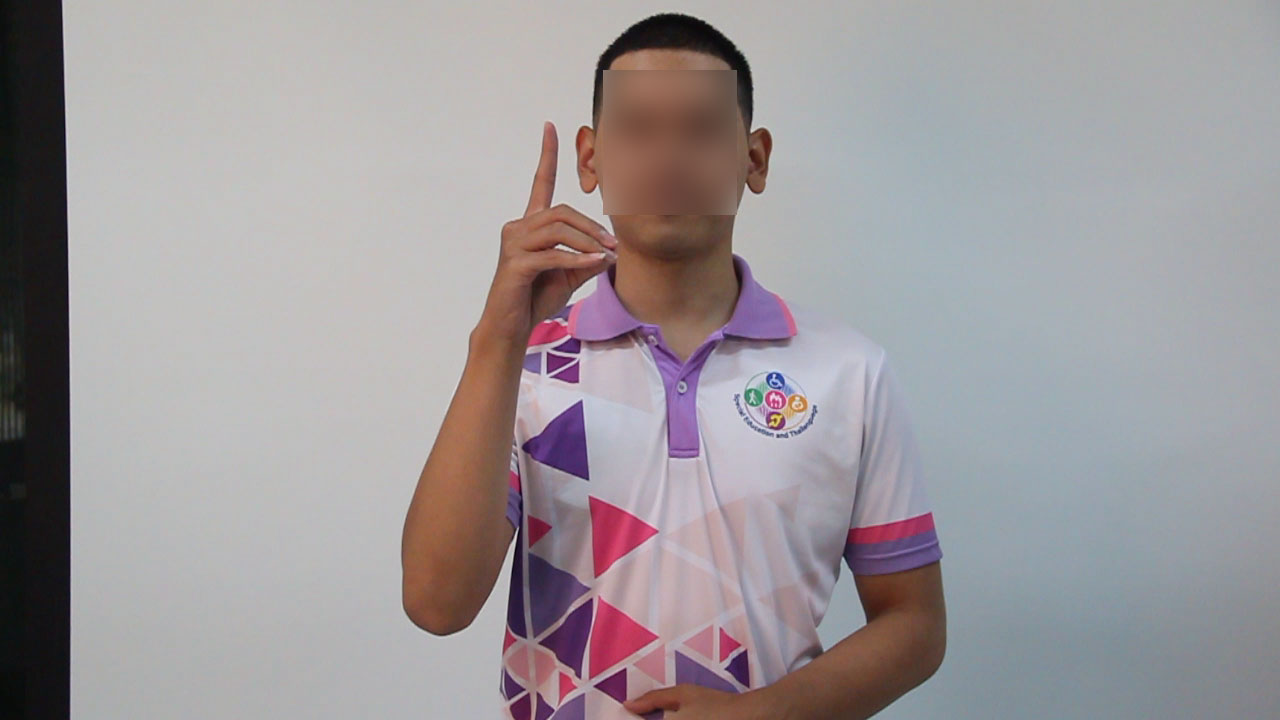dor: (468, 115, 624, 336)
